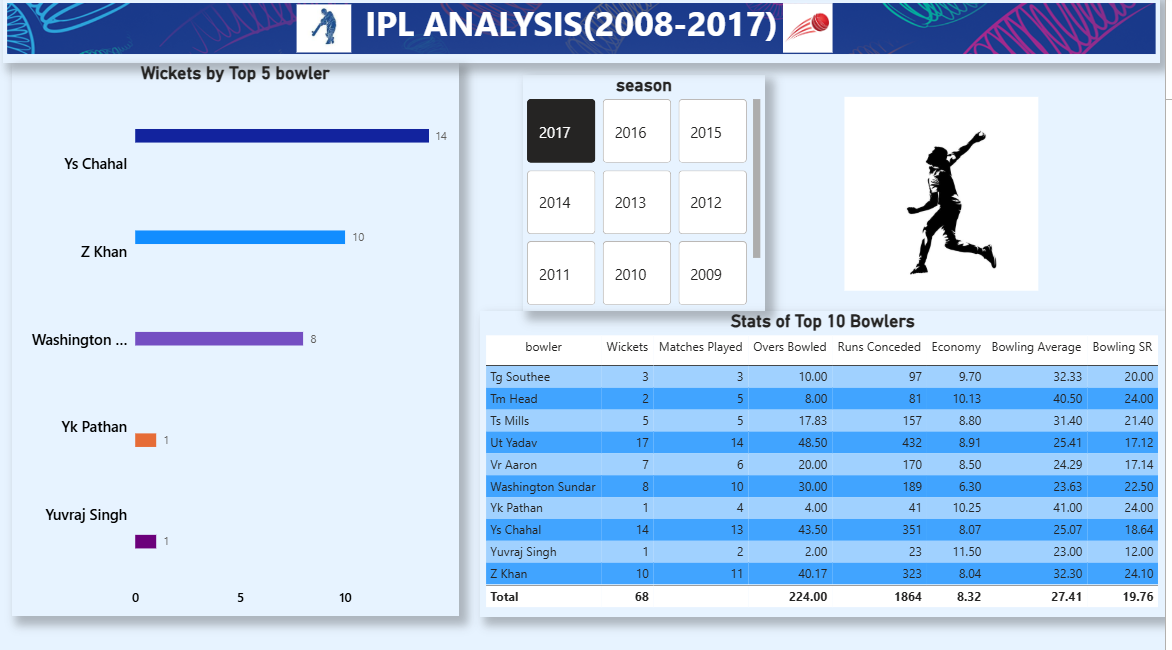

This screenshot's page, from the dashboard's own definition file:
{"tool":"powerbi","page":{"name":"Page 3","canvas":[1280,720],"ordinal":2},"visuals":[{"type":"image","box":[4.1,0,1270.7,74.1],"z":0},{"type":"textbox","box":[369.1,0,518.7,64.5],"z":1000},{"type":"clusteredBarChart","title":"Wickets by Top 5 bowler","fields":{"Y":["deliveries - deliveries csv.Wickets"],"Category":["deliveries - deliveries csv.bowler"],"Series":["deliveries - deliveries csv.bowler"]},"box":[13.7,74.1,491.3,607.9],"z":2000},{"type":"image","box":[311.4,5.7,90,62.9],"z":3000},{"type":"tableEx","title":"Stats of Top 10 Bowlers","fields":{"Values":["deliveries - deliveries csv.bowler","deliveries - deliveries csv.Wickets","deliveries - deliveries csv.Matches Played","deliveries - deliveries csv.Overs Bowled","deliveries - deliveries csv.Runs Conceded","deliveries - deliveries csv.Economy","deliveries - deliveries csv.Bowling Average","deliveries - deliveries csv.Bowling SR"]},"box":[528.3,347.2,752,334.8],"z":3001},{"type":"advancedSlicerVisual","fields":{"Values":["matches.season"]},"box":[575,87.8,266.2,259.3],"z":3002},{"type":"image","box":[794.5,107,480.3,222.3],"z":3003},{"type":"image","box":[738.3,4.1,299.1,64.5],"z":3004}]}

Visuals, with their boxes in screenshot pixels (x1, y1, x2, y2), scaled from the page's 1280x720 canvas onto the 1172x650 screenshot:
image: pyautogui.locateOnScreen(4, 0, 1167, 67)
textbox: pyautogui.locateOnScreen(338, 0, 813, 58)
"Wickets by Top 5 bowler" clusteredBarChart: pyautogui.locateOnScreen(13, 67, 462, 616)
image: pyautogui.locateOnScreen(285, 5, 368, 62)
"Stats of Top 10 Bowlers" tableEx: pyautogui.locateOnScreen(484, 313, 1171, 616)
advancedSlicerVisual - matches.season: pyautogui.locateOnScreen(526, 79, 770, 313)
image: pyautogui.locateOnScreen(727, 97, 1167, 297)
image: pyautogui.locateOnScreen(676, 4, 950, 62)
